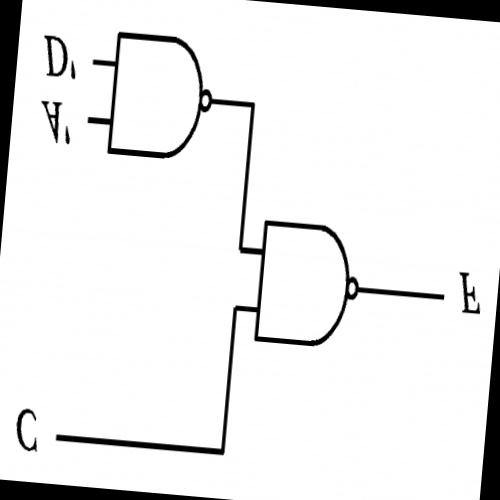nand: (236, 188, 378, 375), (90, 9, 226, 186)
